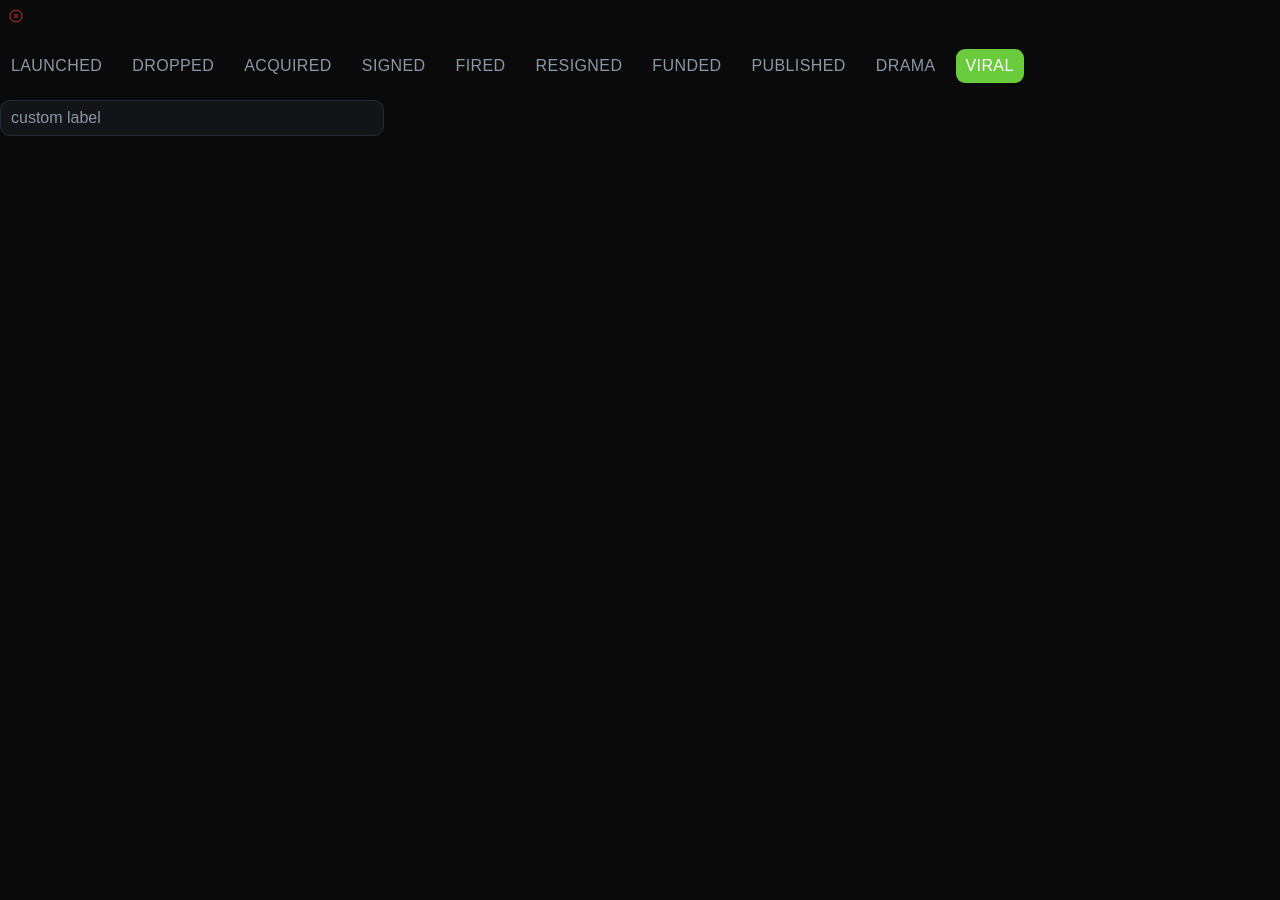
Test case: NewsCategorySection › classification failure affordance › the Quiet Failure Details reveal exposes the message and debug log
Click the button named "Open News Category Classification Failure Details": (16, 16) [0,0,32,32]
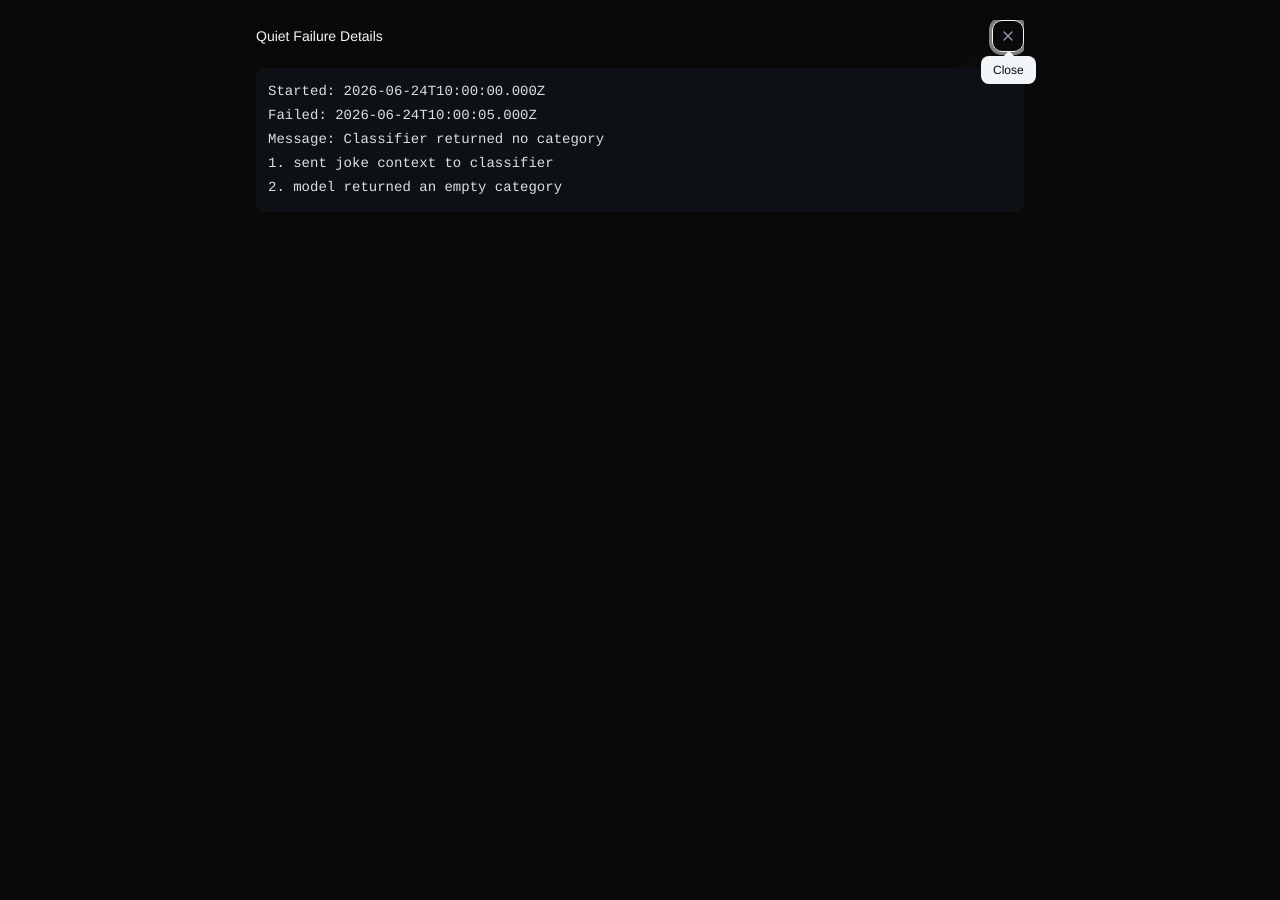
Check: the heading "Quiet Failure Details" is shown, box [256,26,383,46]
Check: the text "model returned an empty category" is shown, box [268,84,604,196]
